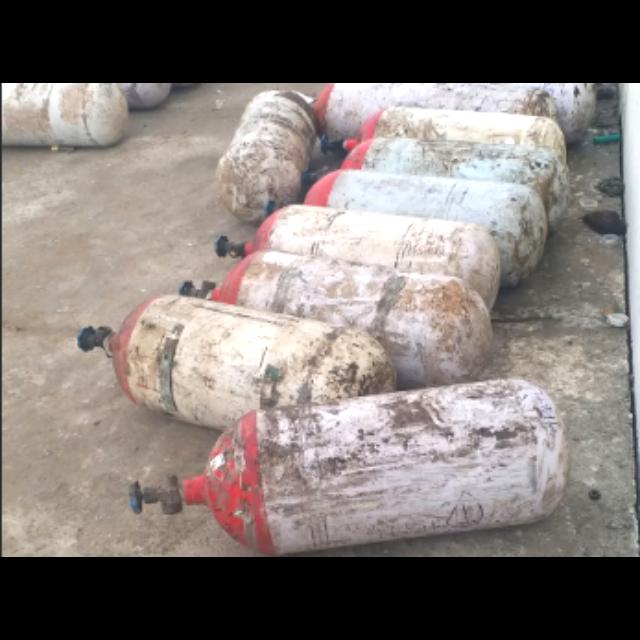Cylinders: (126, 371, 584, 555), (75, 289, 402, 435), (178, 251, 498, 385)
